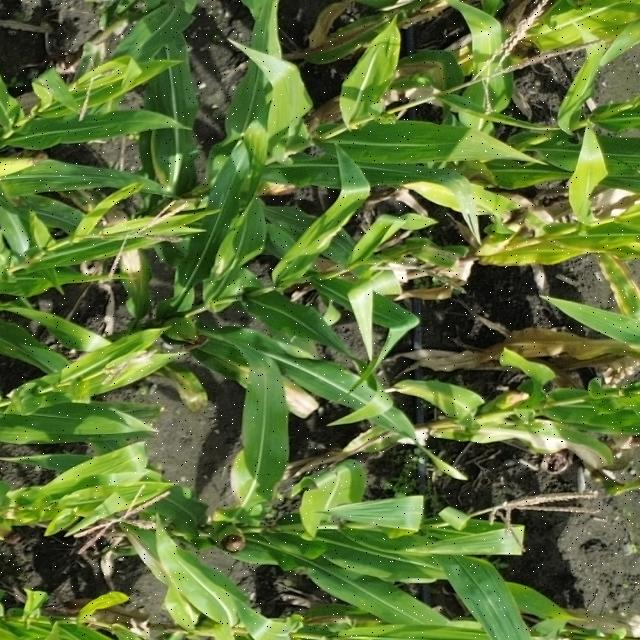gray-leaf-spot: (42, 118, 140, 146)
northern-leaf-blight: (214, 356, 327, 435), (460, 428, 636, 471), (411, 242, 606, 274)
southern-leaf-blight: (396, 522, 511, 562)
